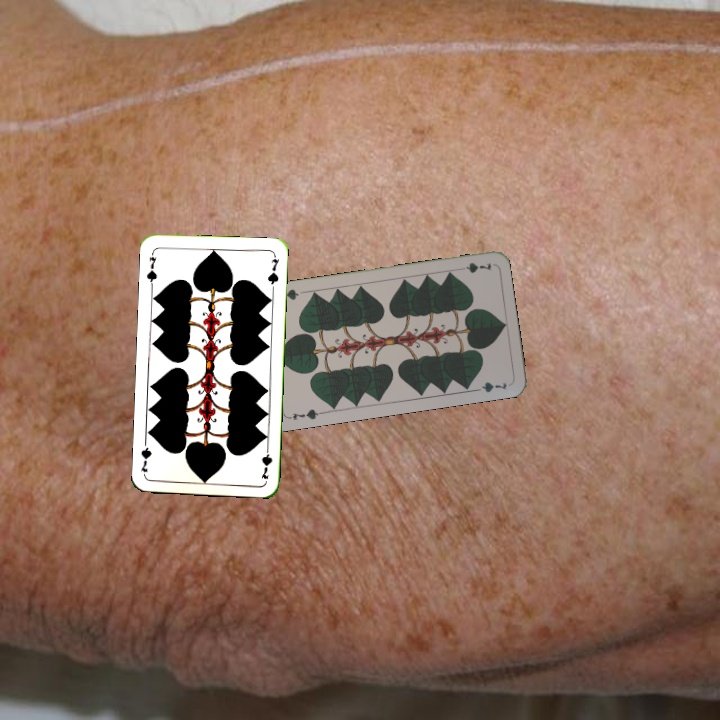G7: (257, 441, 275, 482), (453, 258, 494, 275), (285, 405, 325, 422), (143, 253, 160, 289)
